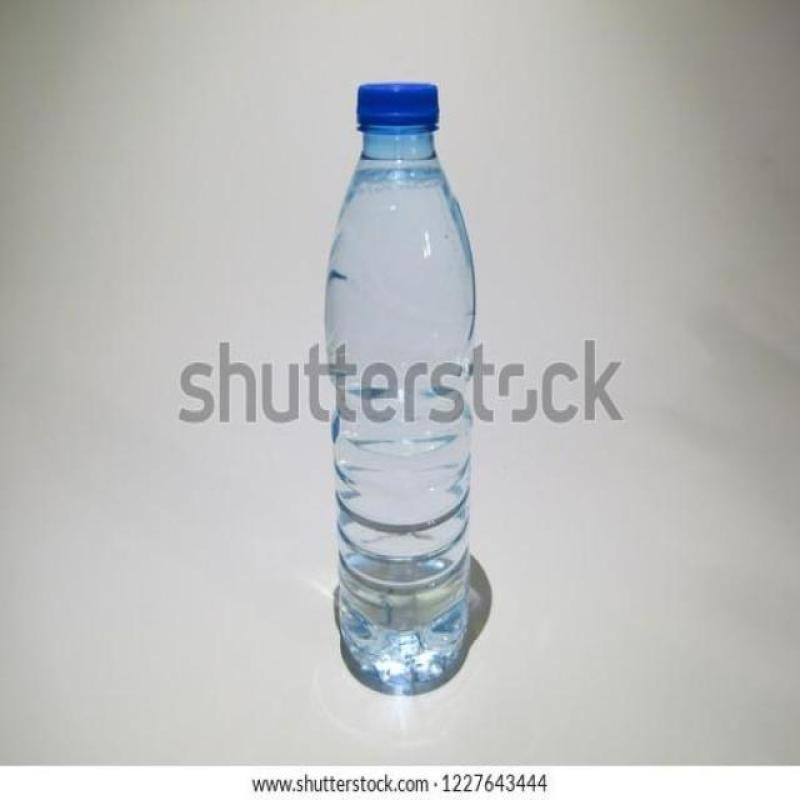botella: (324, 85, 475, 693)
